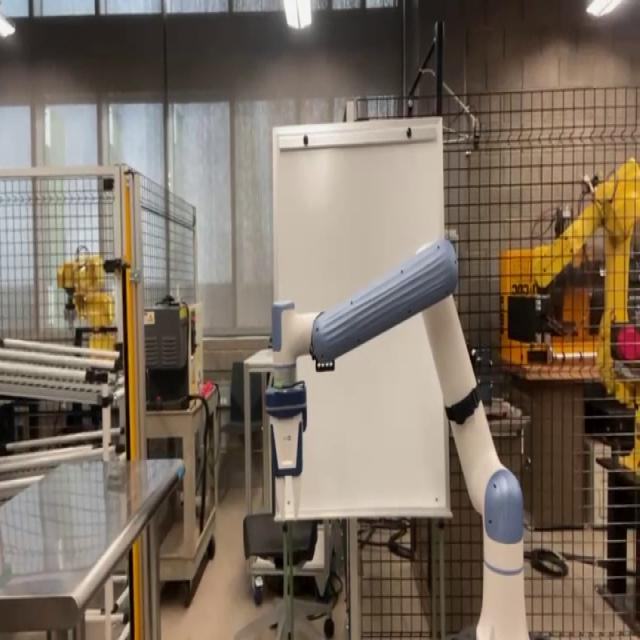robot: (262, 233, 536, 639)
